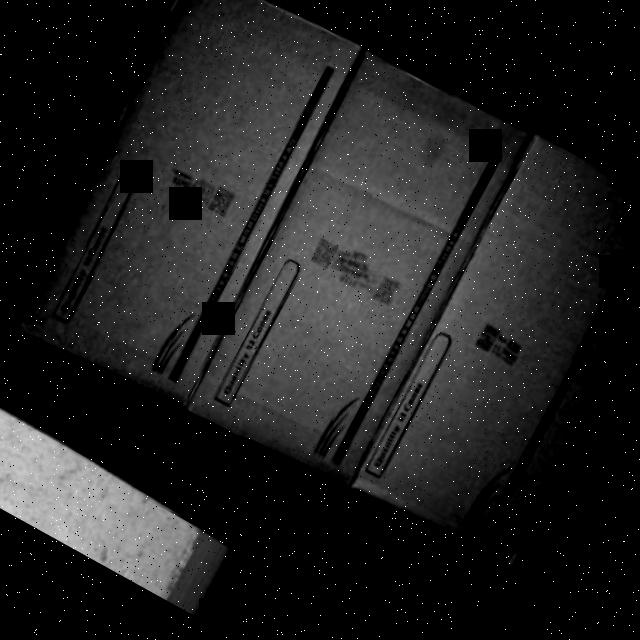box: (178, 49, 542, 494), (0, 0, 374, 408), (351, 135, 640, 566)
